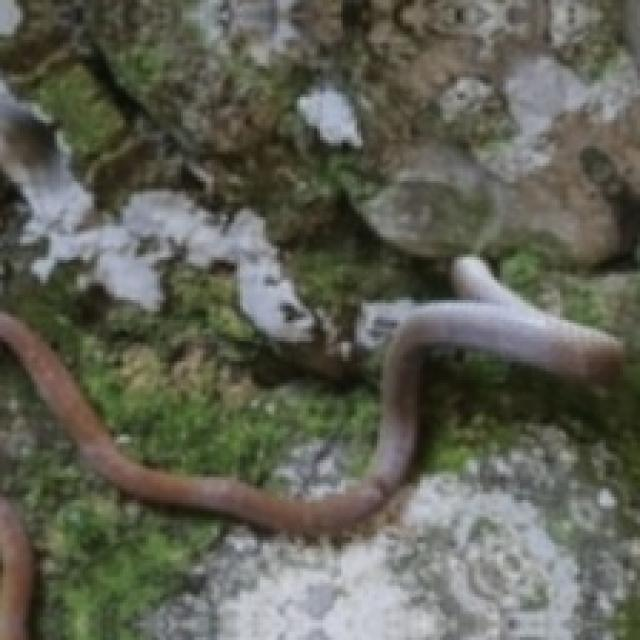reddish rat snake: (0, 257, 620, 531)
